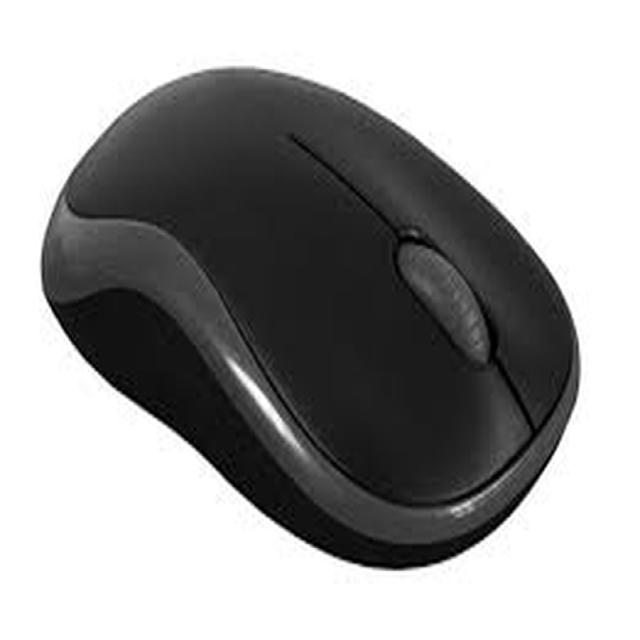mouse: (37, 60, 581, 554)
